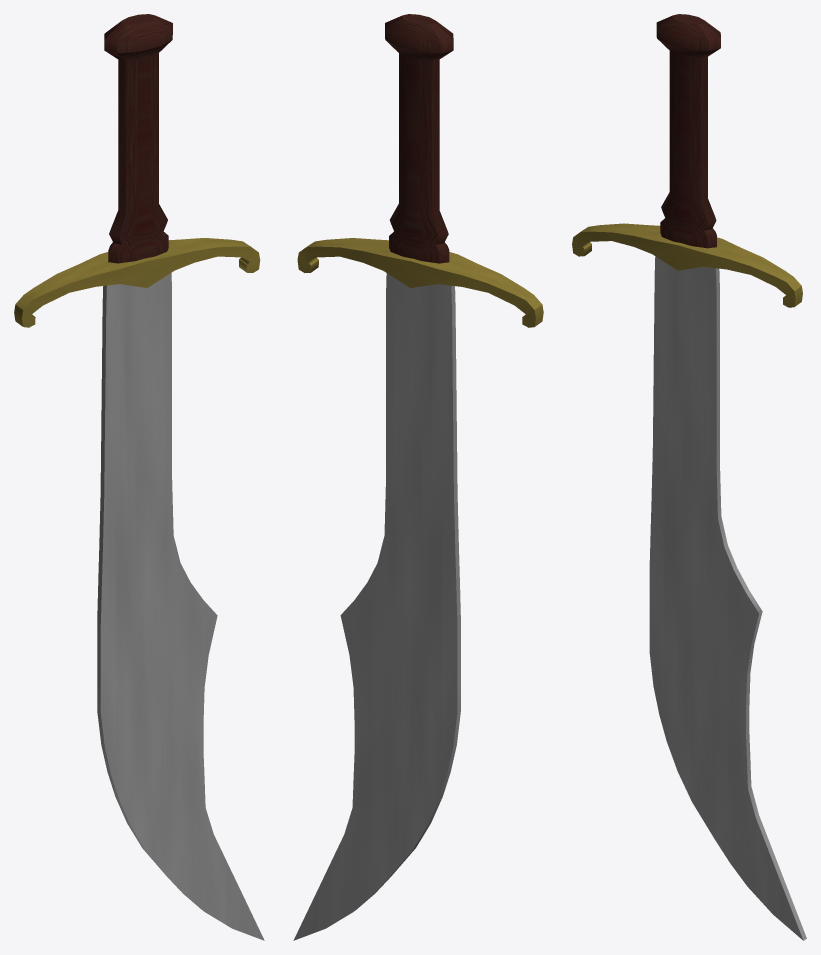
File: Sword.fbx
The picture shows the model from 3 angles, left to right: view 1: azimuth 30°, elevation 25°; view 2: azimuth 150°, elevation 25°; view 3: azimuth 330°, elevation 25°; orthographic projection. The views are drawn at different scales.
Visible parts, largest first — view 1: pCube4; view 2: pCube4; view 3: pCube4.
Boxes of the visible parts, x1=… form: pCube4: x1=14, y1=14, x2=264, y2=940; pCube4: x1=293, y1=14, x2=543, y2=940; pCube4: x1=572, y1=14, x2=806, y2=940.
Size of the model in its own units: 0.5878 by 2.18 by 0.084.
